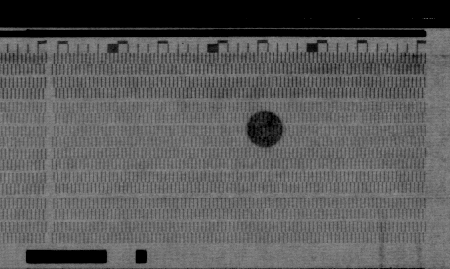Broken hole: (353, 111, 365, 124)
